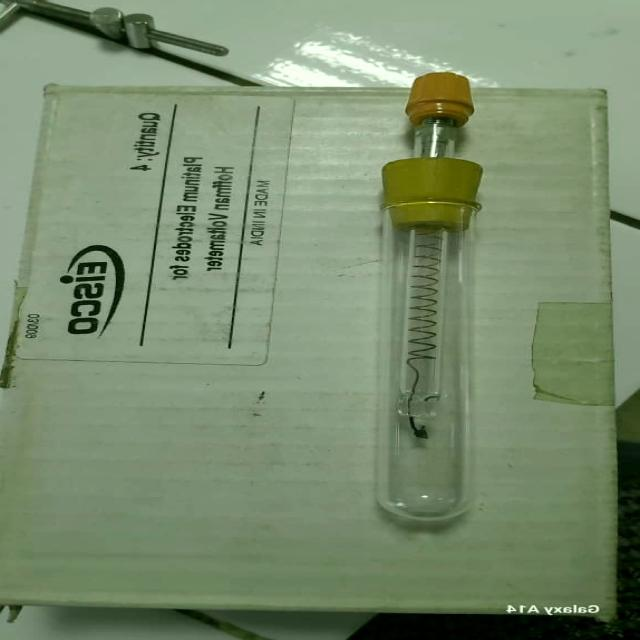Electrode: (360, 67, 491, 523)
